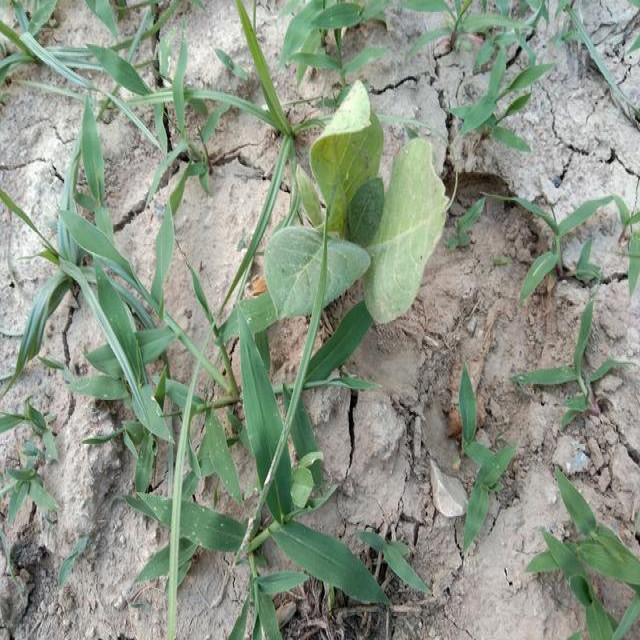crop: (274, 85, 442, 324)
